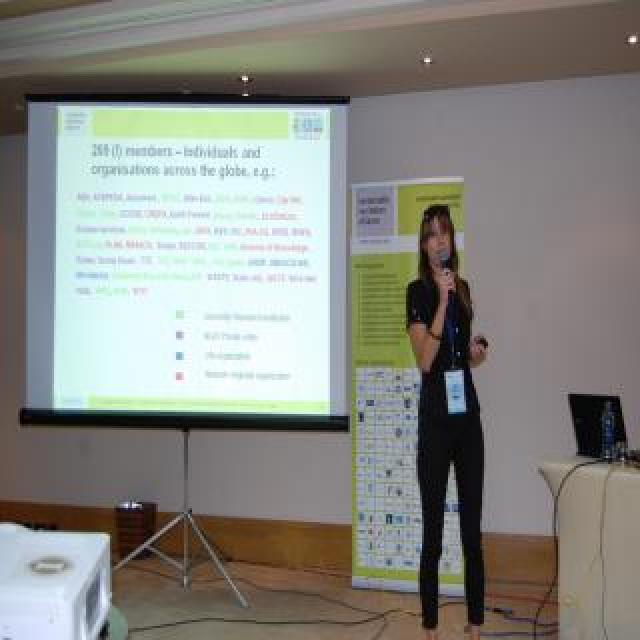laptop_computer: (561, 386, 640, 469)
